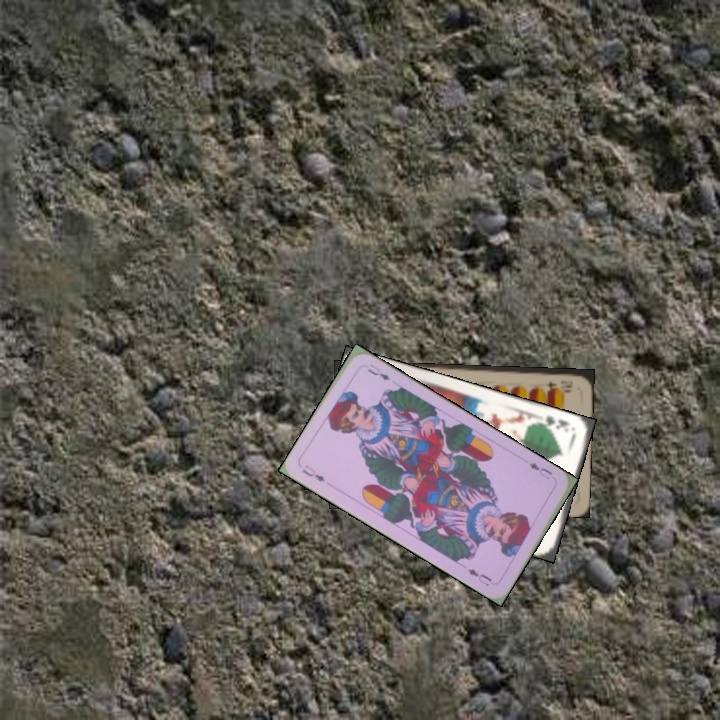E10: (542, 376, 576, 391)
EU: (525, 458, 555, 482), (298, 461, 328, 484)
GK: (535, 411, 572, 435)
